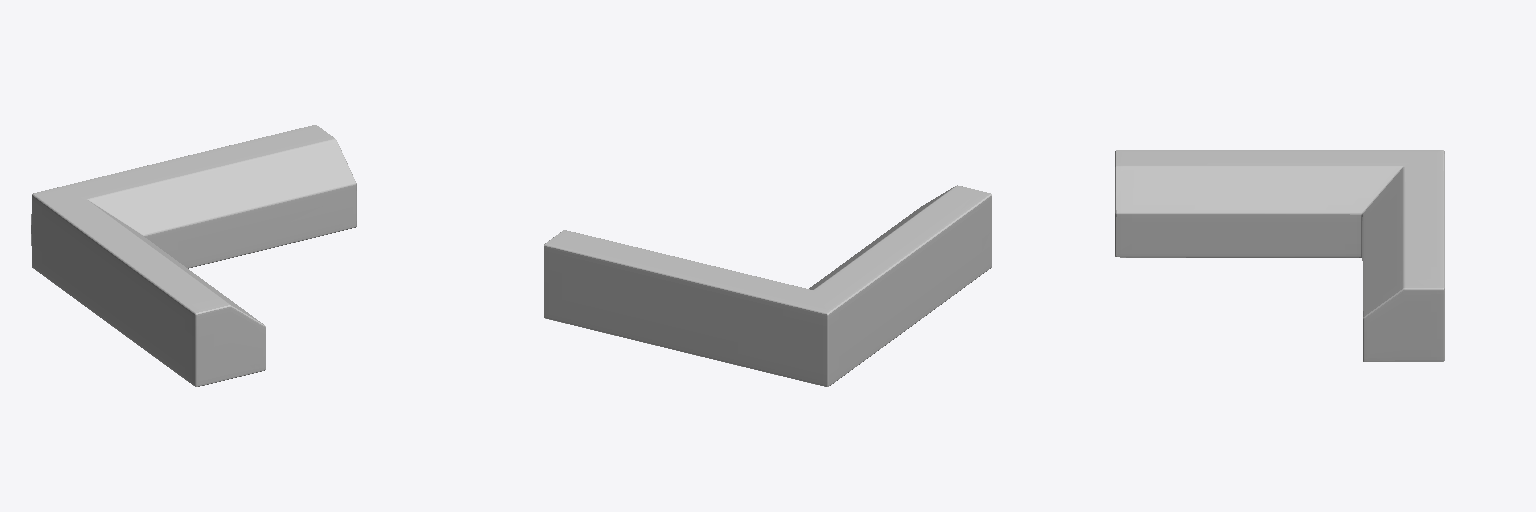
File: OutsideCorner_HP.obj
The picture shows the model from 3 angles: view 1: azimuth 30°, elevation 25°; view 2: azimuth 150°, elevation 25°; view 3: azimuth 270°, elevation 25°; orthographic projection.
Visible parts, largest first — view 1: OutsideCorner; view 2: OutsideCorner; view 3: OutsideCorner.
Boxes of the visible parts, box(x1,y1,x2,y2) form: OutsideCorner: box(31, 125, 356, 386); OutsideCorner: box(544, 185, 991, 386); OutsideCorner: box(1115, 150, 1444, 361).
Size of the model in its own units: 4 by 0.9999 by 4.